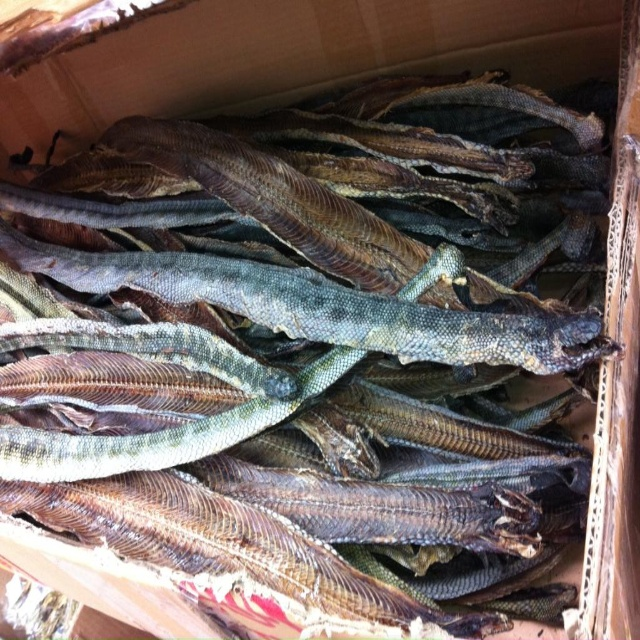Fish: (0, 69, 626, 640)
